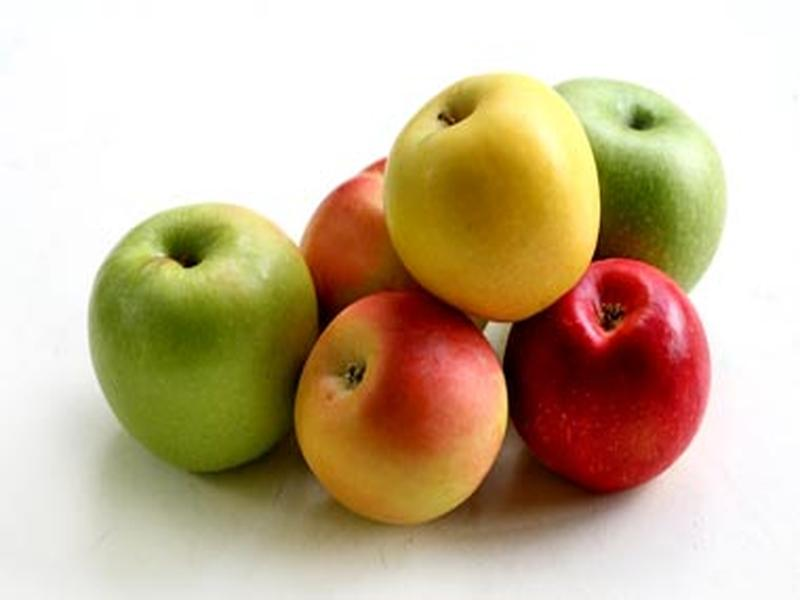apple: (78, 192, 314, 478), (378, 66, 609, 316), (293, 279, 517, 528), (494, 253, 714, 497), (534, 63, 746, 300)
